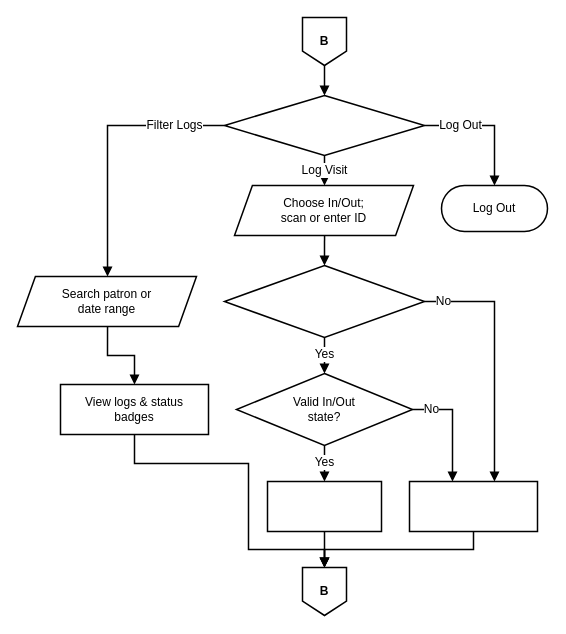
Some shapes in this 566 by 634 pixel diagram are drawn without their labels. Each missing label, with the box of its shape:
Card & account Active?: (223, 264, 425, 338)
Record visit (close stale): (266, 480, 382, 532)
Select action?: (223, 94, 425, 156)
Show attendance error: (408, 480, 538, 532)
